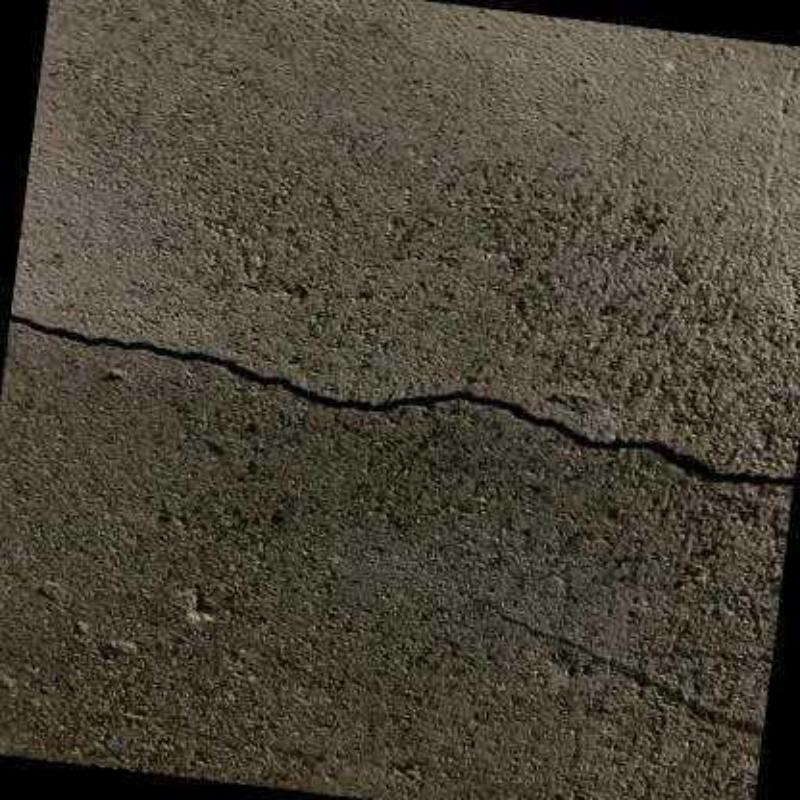pothole: (6, 312, 794, 495)
